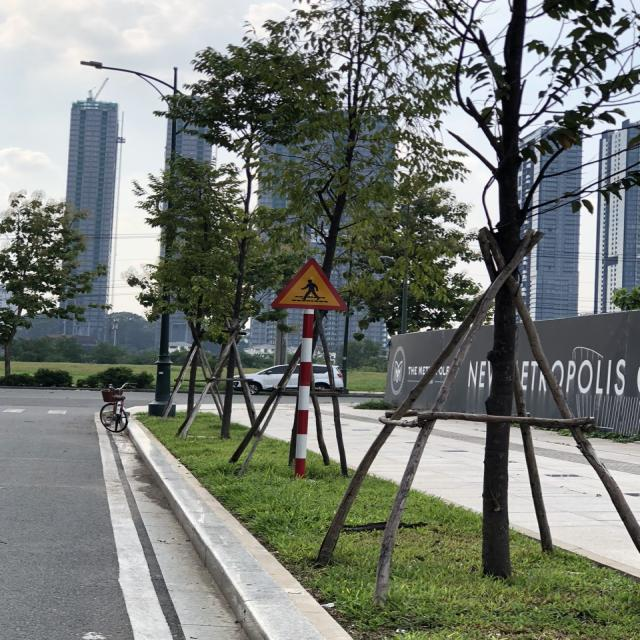Bien bao duong nguoi di bo cat ngang: (267, 255, 358, 312)
